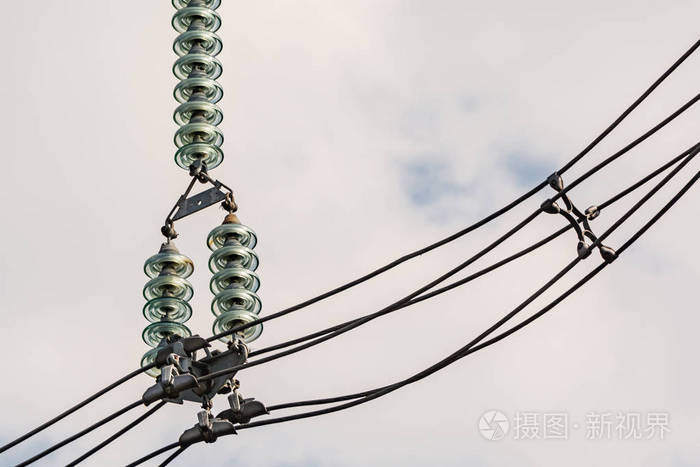insulator: (165, 1, 231, 164), (208, 223, 272, 340), (141, 248, 189, 378)
